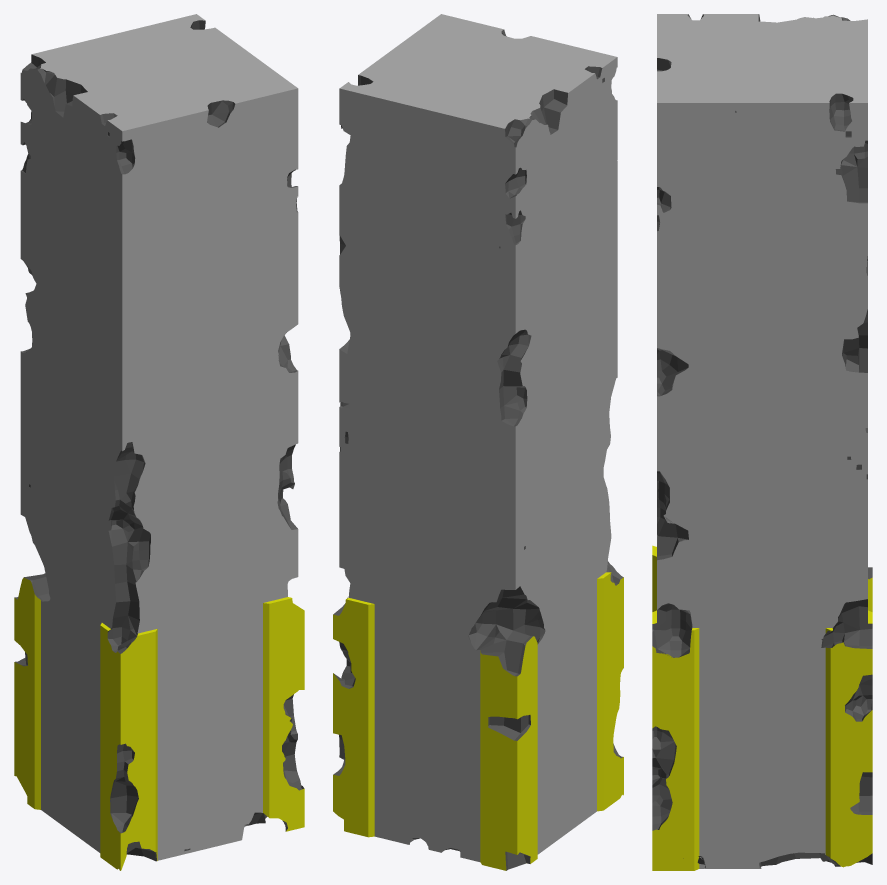
File: pillar new 2.glb
3 views of the same model, side by side, from view 1: azimuth 30°, elevation 25°; view 2: azimuth 150°, elevation 25°; view 3: azimuth 270°, elevation 25° (orthographic). The views are drawn at different scales.
Visible parts, largest first — view 1: pillier neuf.001; view 2: pillier neuf.001; view 3: pillier neuf.001.
Part boxes in pixels (x1=…): pillier neuf.001: x1=14, y1=14, x2=304, y2=870; pillier neuf.001: x1=333, y1=14, x2=623, y2=870; pillier neuf.001: x1=652, y1=14, x2=872, y2=870.
Bounding box in the file's own units: 3.35 × 12.83 × 3.35.
